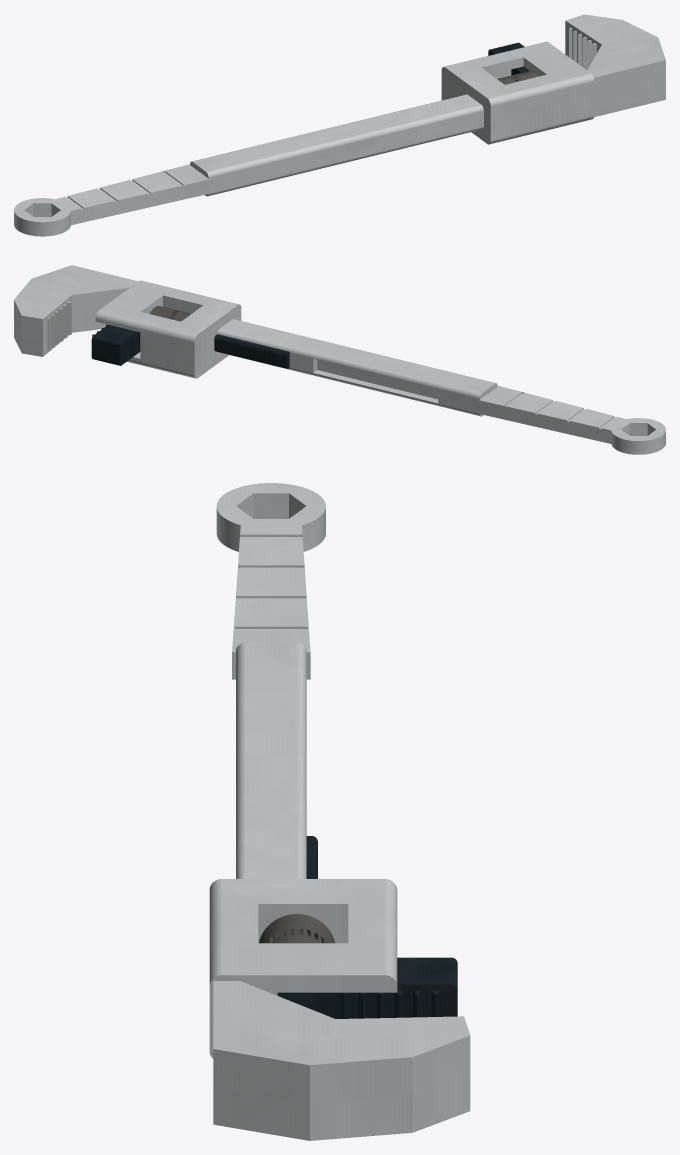
The model's file is Handtools_Wrench__0018.glb.
3 views of the same model, one above another, from view 1: azimuth 30°, elevation 25°; view 2: azimuth 150°, elevation 25°; view 3: azimuth 270°, elevation 25° (orthographic). The views are drawn at different scales.
Parts seen in each view (by area): view 1: head_frame::frame_steel, head_frame::flat_handle; view 2: head_frame::frame_steel, head_frame::flat_handle, movable_jaw::jaw_steel, adjust_nut::nut_knurled; view 3: head_frame::frame_steel, head_frame::flat_handle, movable_jaw::jaw_steel, adjust_nut::nut_knurled.
Boxes of the visible parts, x1,y1,x2,y2 form: head_frame::frame_steel: (190,14,665,196); head_frame::flat_handle: (14,164,209,236); head_frame::frame_steel: (14,265,497,416); head_frame::flat_handle: (479,386,665,454); movable_jaw::jaw_steel: (91,324,289,368); adjust_nut::nut_knurled: (150,306,191,321); head_frame::frame_steel: (209,642,470,1140); head_frame::flat_handle: (216,483,325,679); movable_jaw::jaw_steel: (277,836,457,1018); adjust_nut::nut_knurled: (259,914,334,943).
Bounding box in the file's own units: 0.4466 × 0.03 × 0.0812.
Materials: 3 (3 with a texture image).
